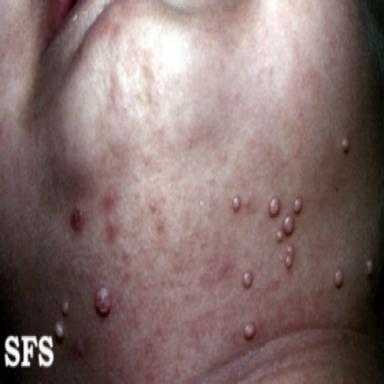Molluscum-Contagiosum: (276, 214, 294, 242), (95, 288, 111, 315), (269, 197, 280, 217), (244, 323, 255, 340), (285, 246, 293, 269), (334, 268, 343, 288), (55, 322, 64, 342), (242, 272, 252, 289), (293, 197, 302, 214), (365, 259, 373, 278), (232, 196, 241, 212), (341, 137, 349, 153), (62, 301, 69, 315), (150, 200, 156, 213)
